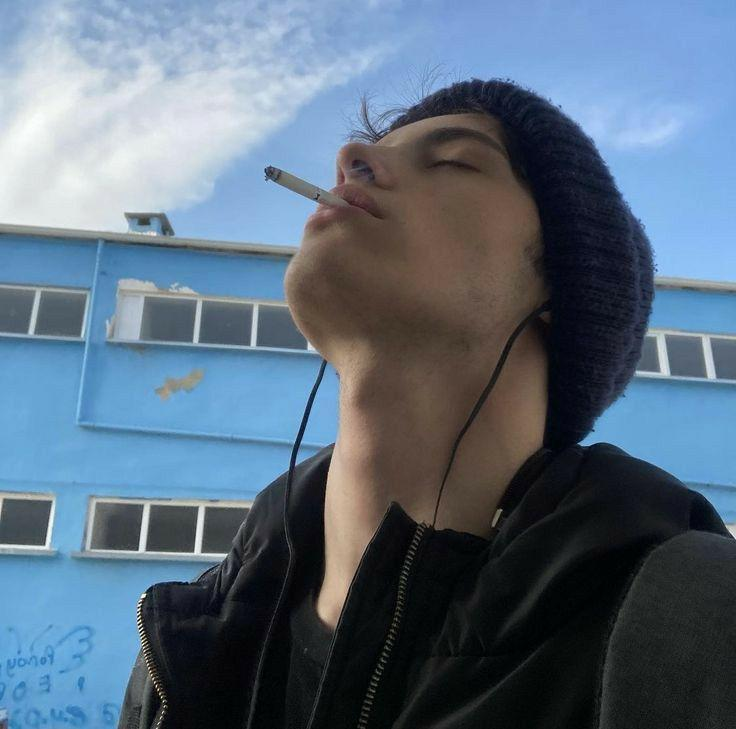cigarette: (264, 166, 349, 208)
